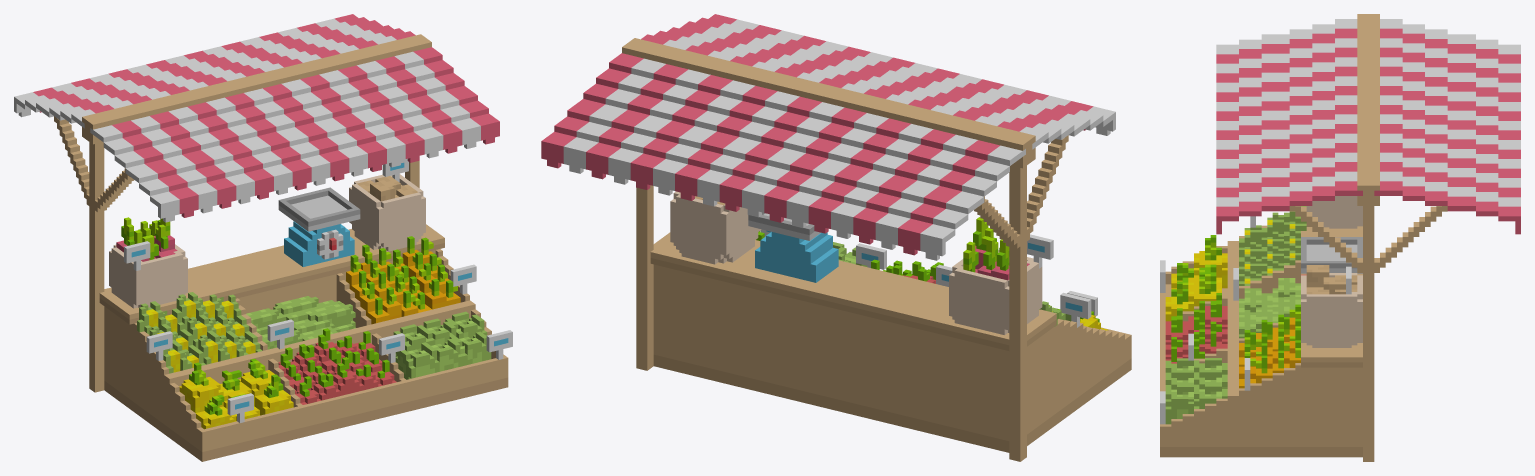
Rendered from vegetable_shop.glb.
3 renders of one model, left to right at view 1: azimuth 30°, elevation 25°; view 2: azimuth 150°, elevation 25°; view 3: azimuth 270°, elevation 25°, orthographic. The views are drawn at different scales.
Visible parts, largest first — view 1: VoxTransform; view 2: VoxTransform; view 3: VoxTransform.
Part boxes in pixels (x1,y1,x2,y2): VoxTransform: (14,14,512,461); VoxTransform: (541,14,1131,461); VoxTransform: (1160,14,1520,461).
Size of the model in its own units: 72 by 55 by 64.
